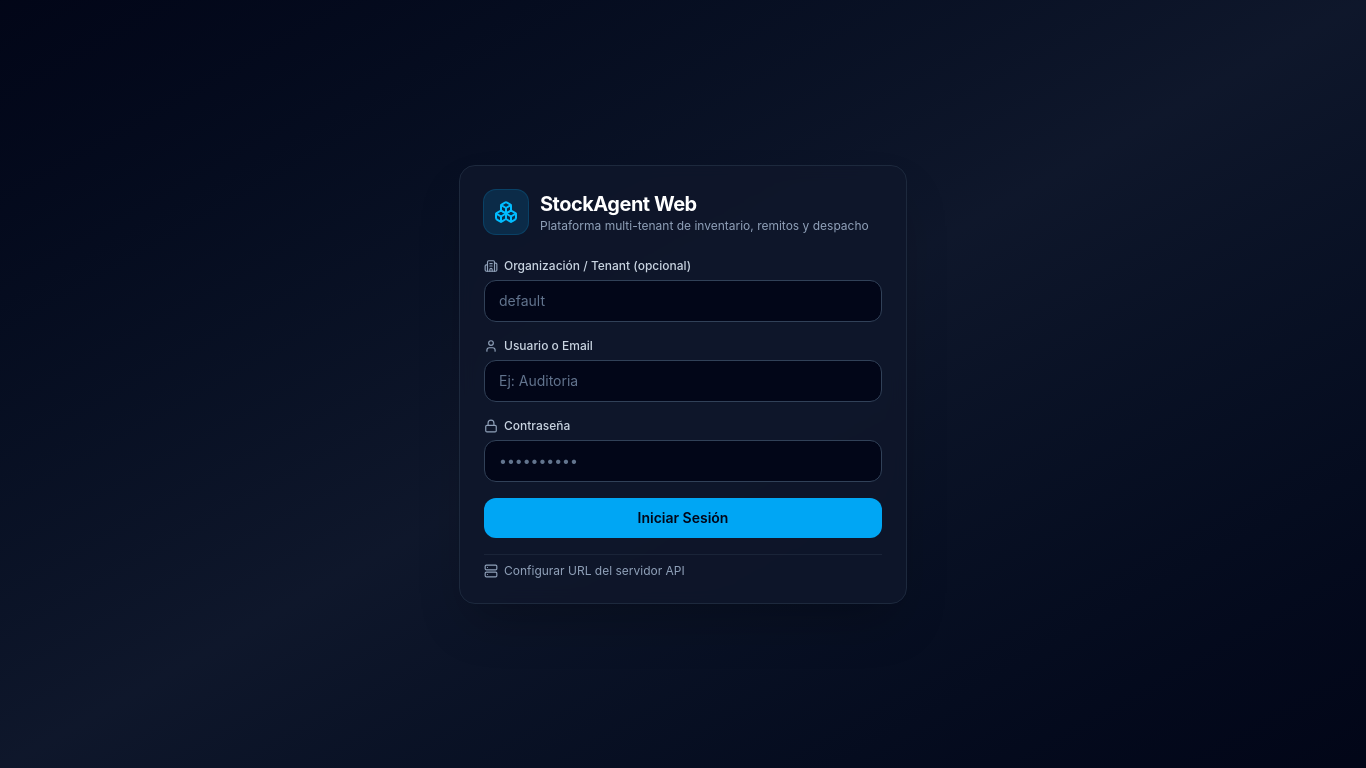
Test: Fase 5 - Experiencia Web React, Flujos Warehouse, RBAC y PWA › exige cambio de contraseña obligatorio cuando must_change_password es true
This screenshot has width=1366, height=768.
Type "nuevo_op" into the field labelled "Usuario o Email" at coordinates (683, 380), box [484, 360, 882, 402]
Type "ClaveTemporal2026!" into the password field labelled "Contraseña" at coordinates (683, 460), box [484, 440, 882, 482]
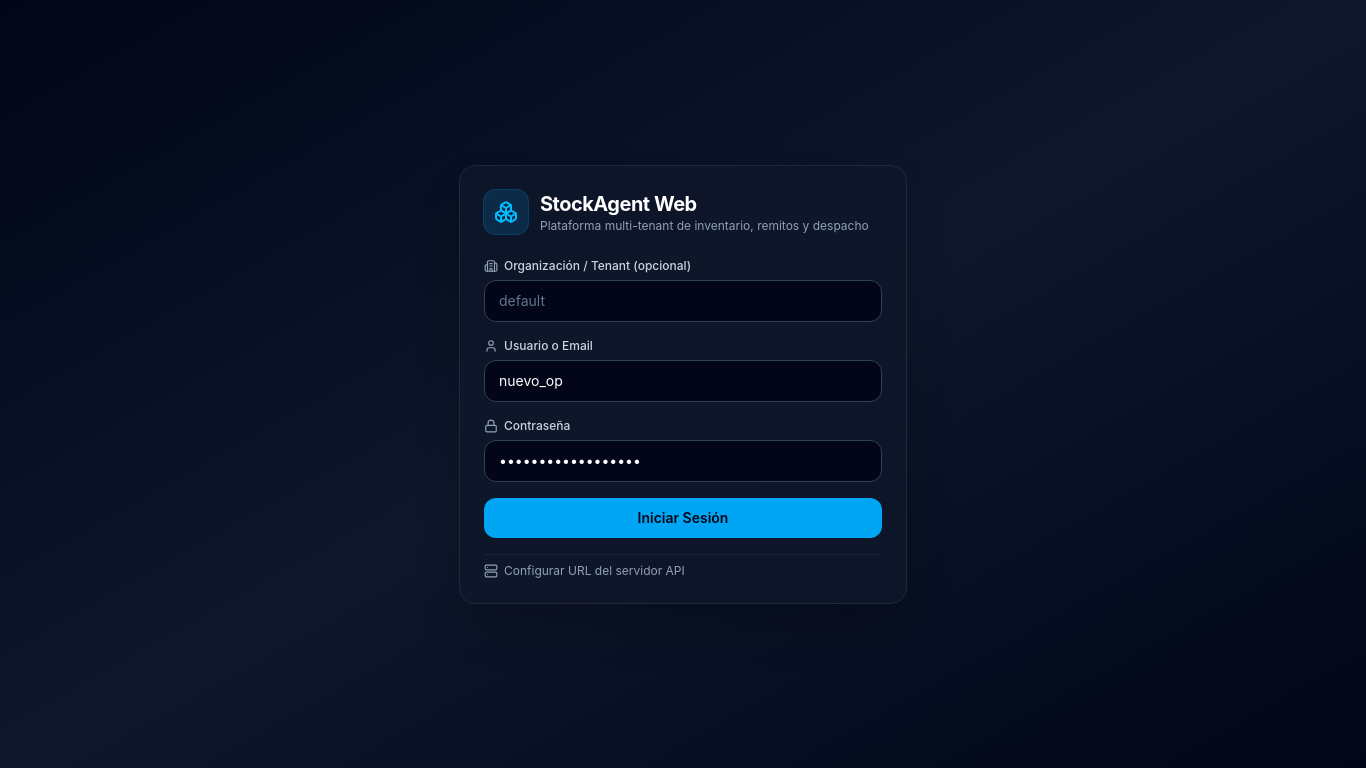
Click the button "Iniciar Sesión" at coordinates (683, 518), box [484, 498, 882, 538]
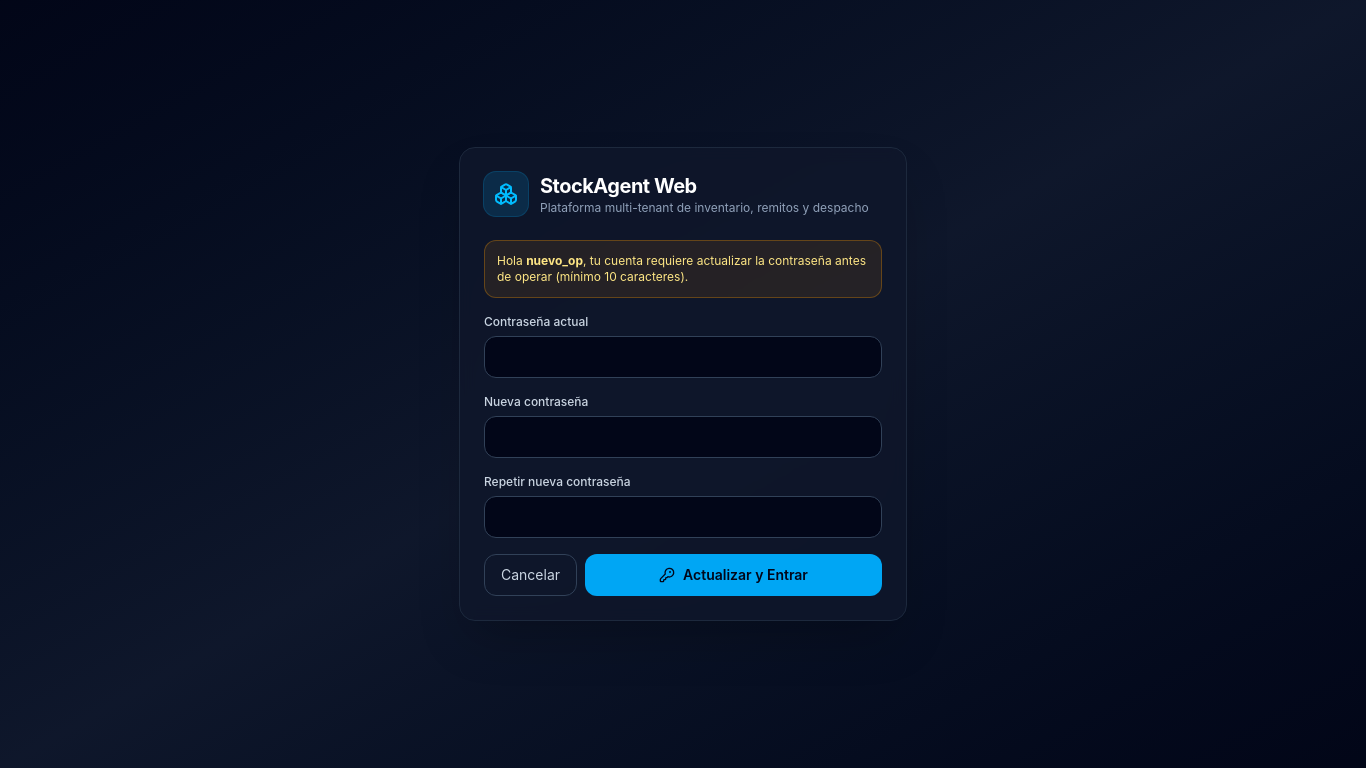
expect the text "tu cuenta requiere actualizar la contraseña" is shown: met, box [497, 253, 866, 284]
Type "ClaveTemporal2026!" into the password field labelled "Contraseña actual" at coordinates (683, 357), box [484, 336, 882, 378]
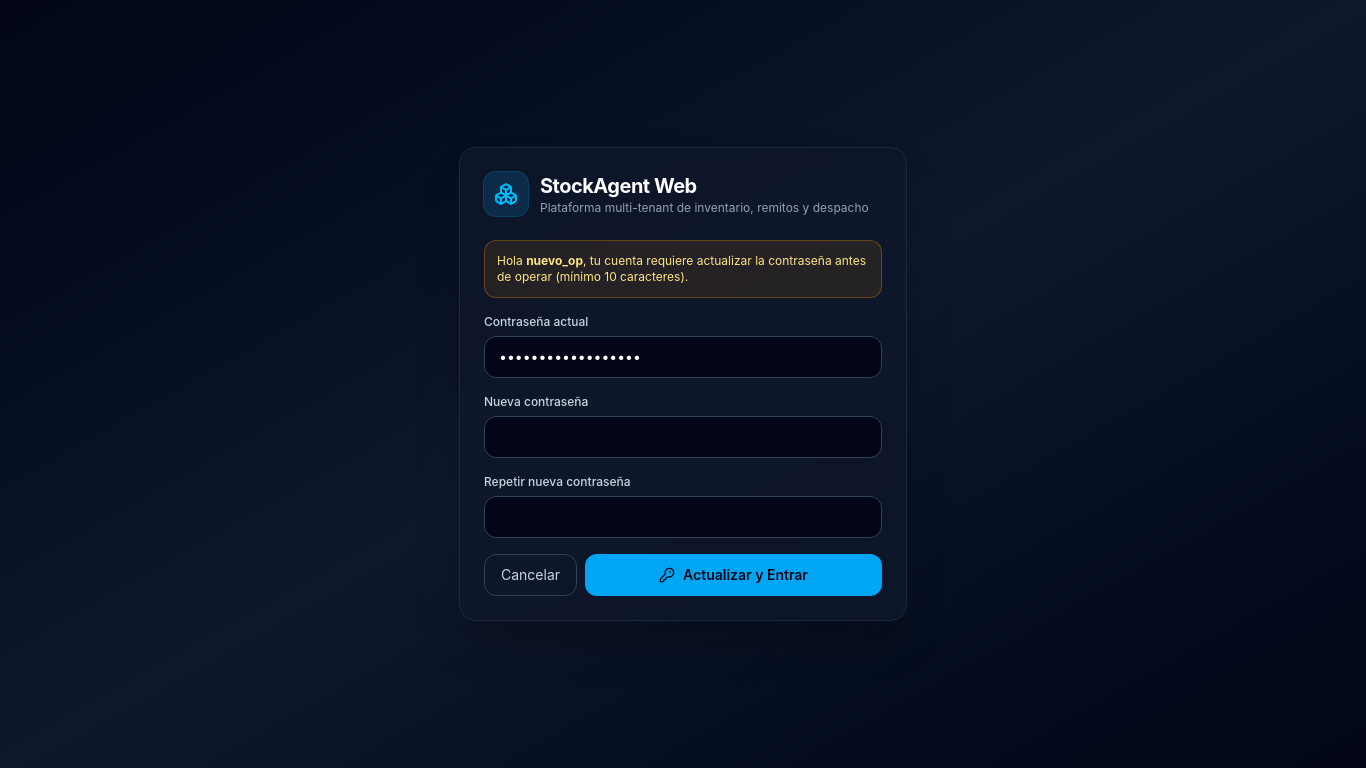
Type "ClaveDefinitiva2026!" into the password field labelled "Nueva contraseña" at coordinates (683, 437), box [484, 416, 882, 458]
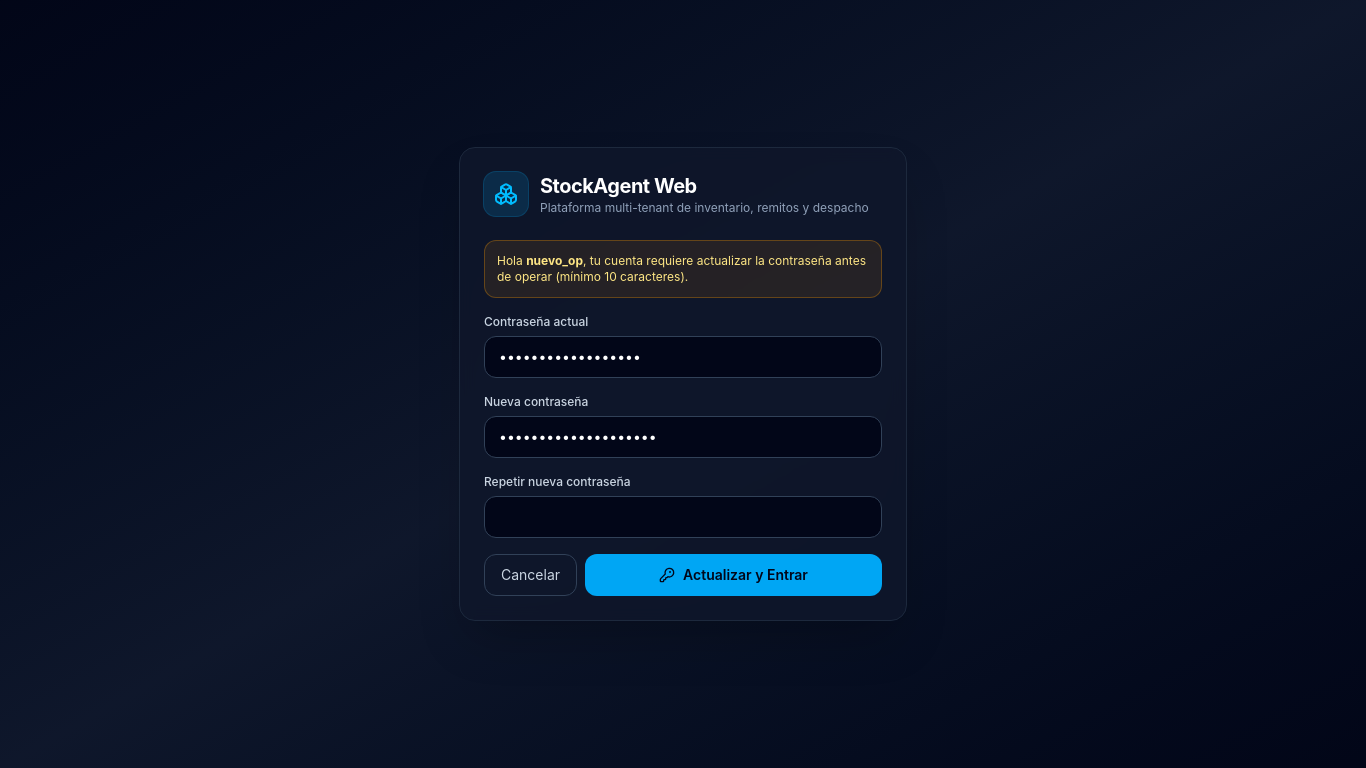
Type "ClaveDefinitiva2026!" into the password field labelled "Repetir nueva contraseña" at coordinates (683, 517), box [484, 496, 882, 538]
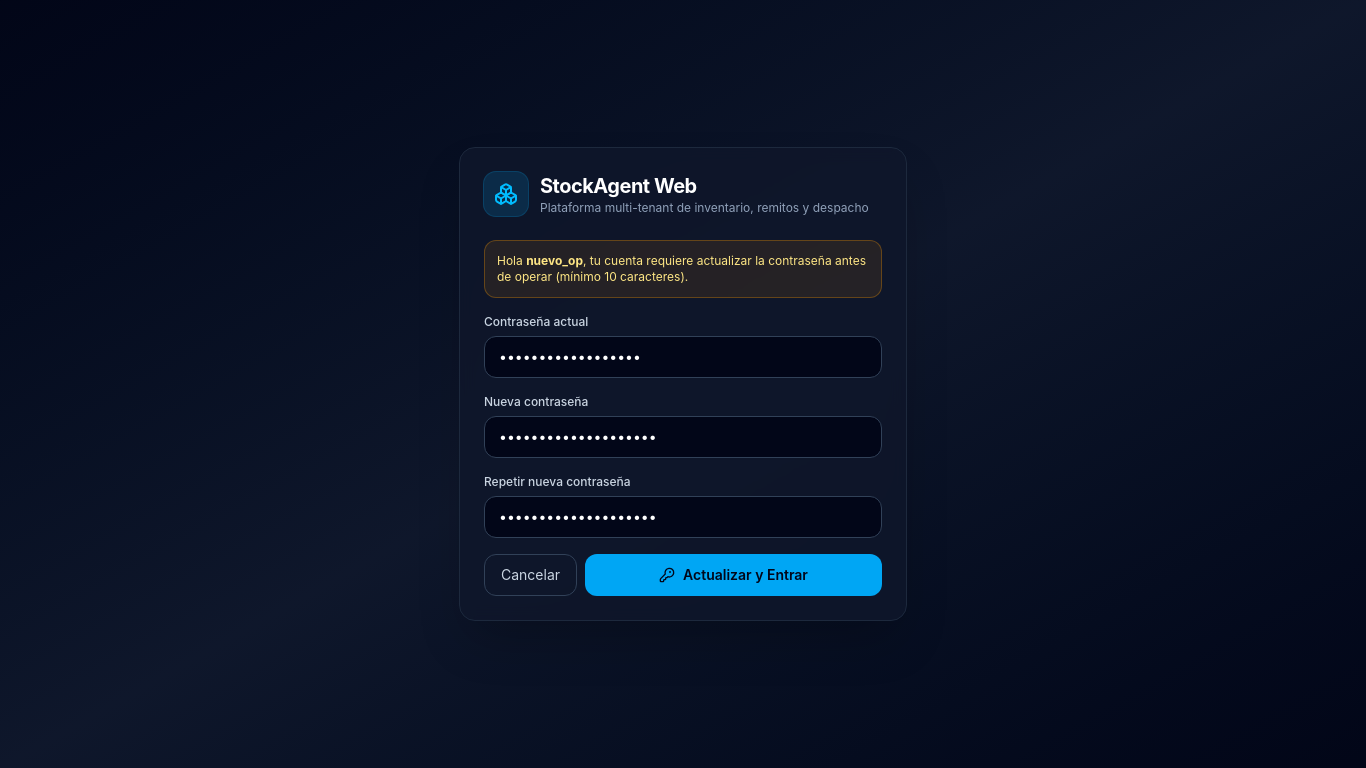
Click the button "Actualizar y Entrar" at coordinates (734, 575), box [585, 554, 882, 596]
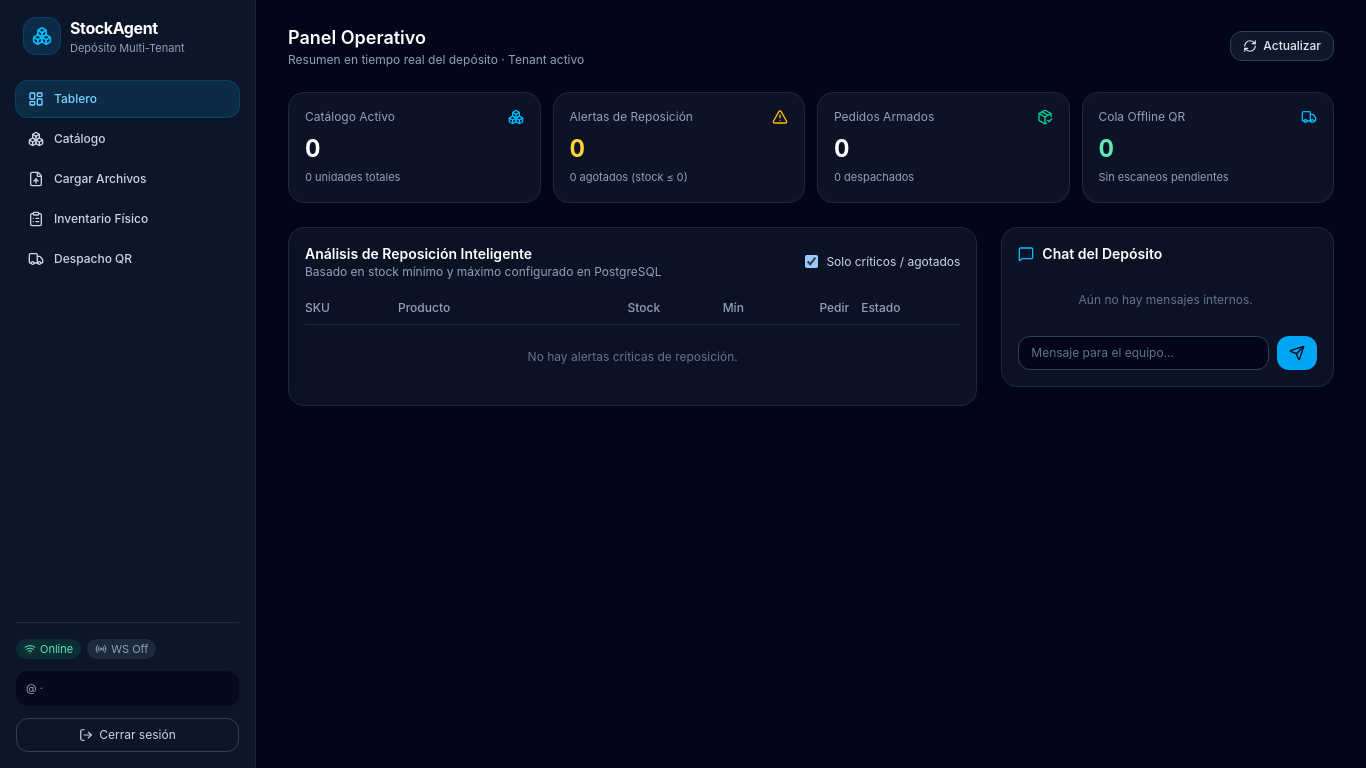
expect the heading "Panel Operativo" is shown: met, box [288, 27, 426, 48]
